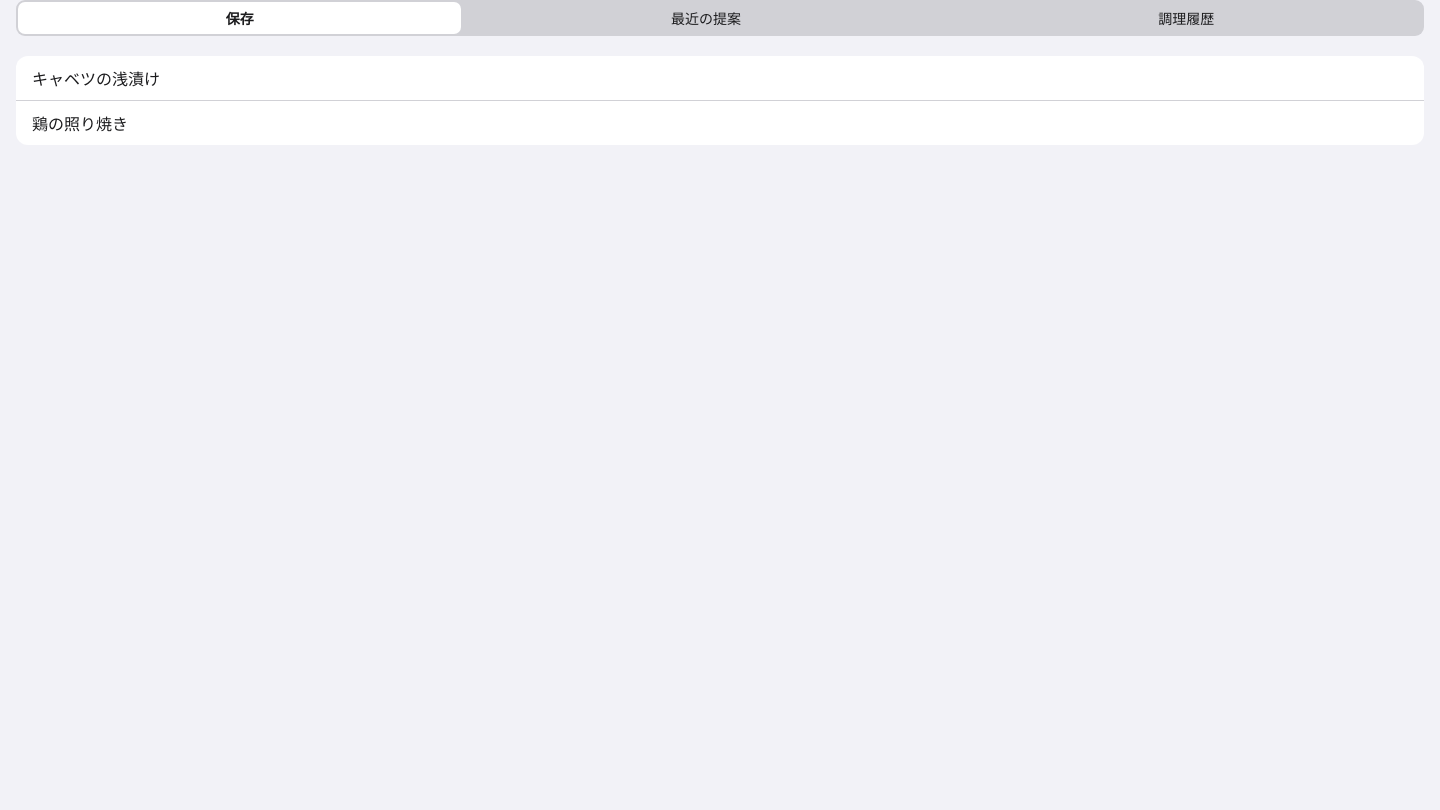
Test: RecipesScreen ★保存した料理（D-39） › ★を外して閉じると一覧から消える
Click the button "鶏の照り焼き": (80, 124) [16,101,1424,145]
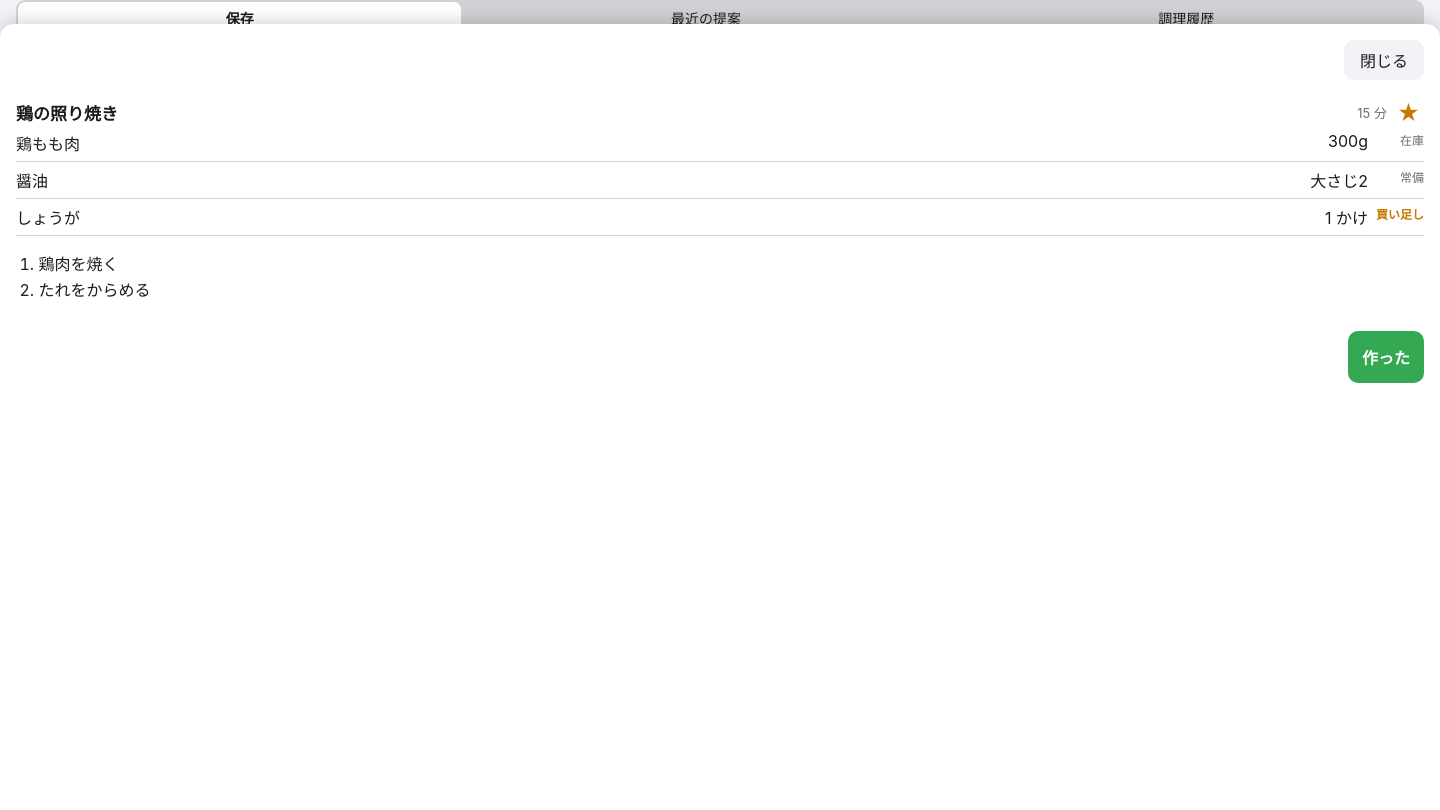
Click the button named "鶏の照り焼きを保存": (1408, 112) [1393,102,1424,124]
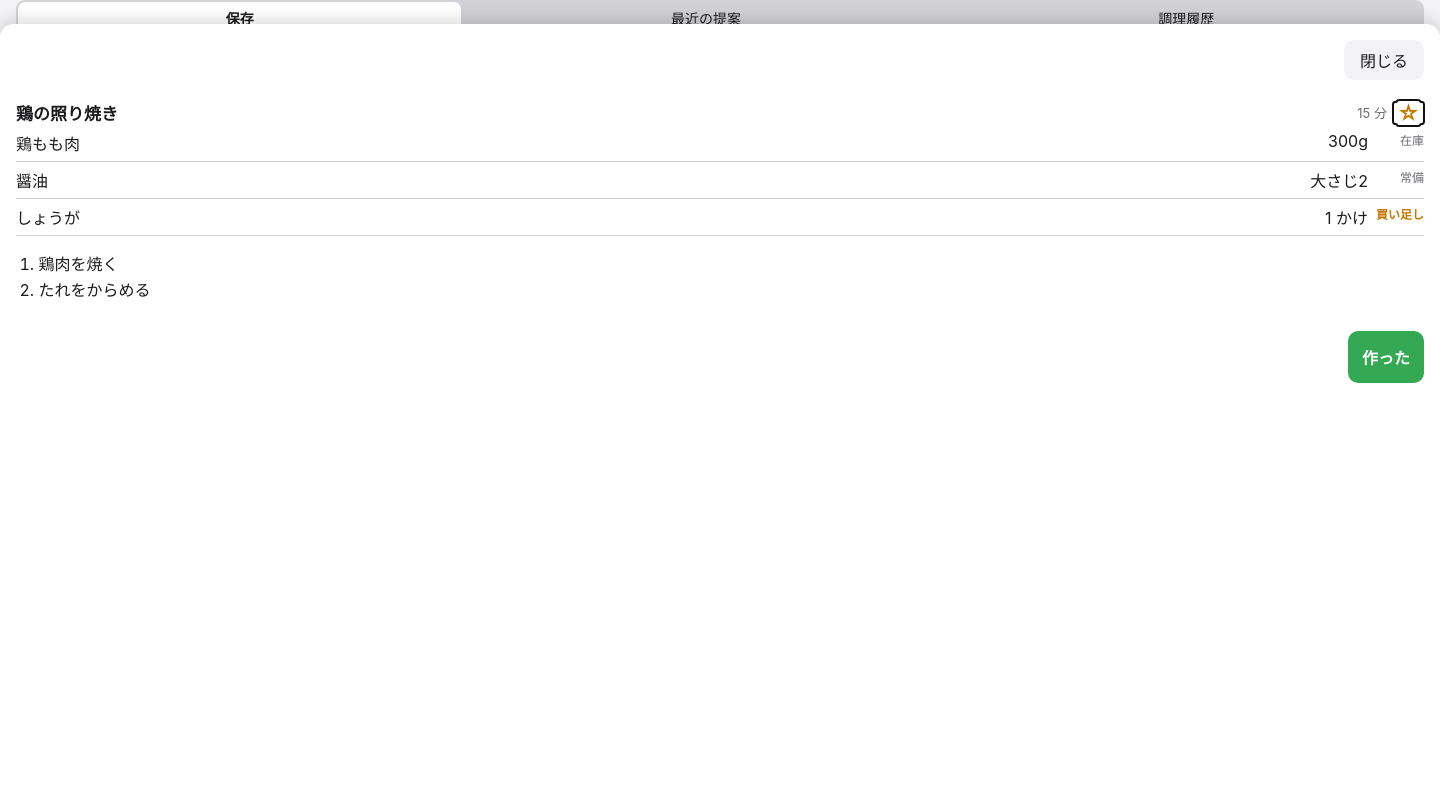
Click the button "閉じる": (1384, 60) [1344,40,1424,80]
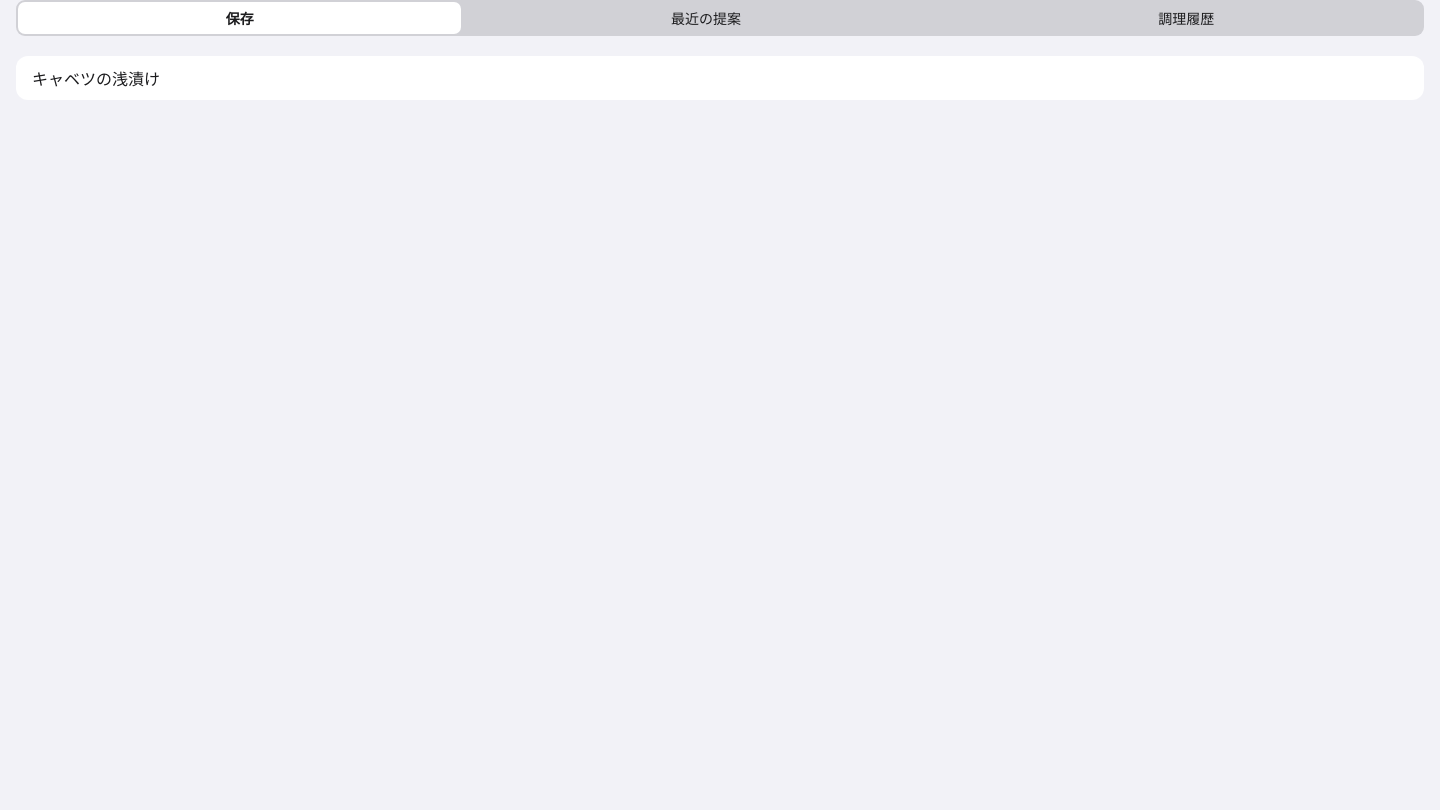
Now the text "鶏の照り焼き" is gone
